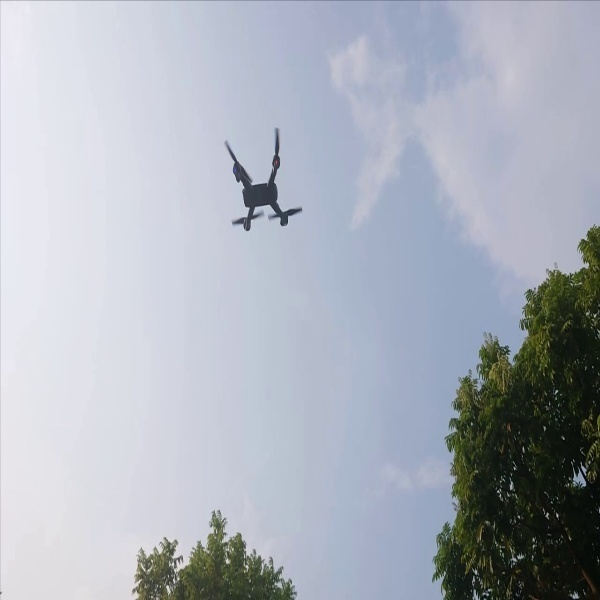drone: (204, 122, 302, 240)
